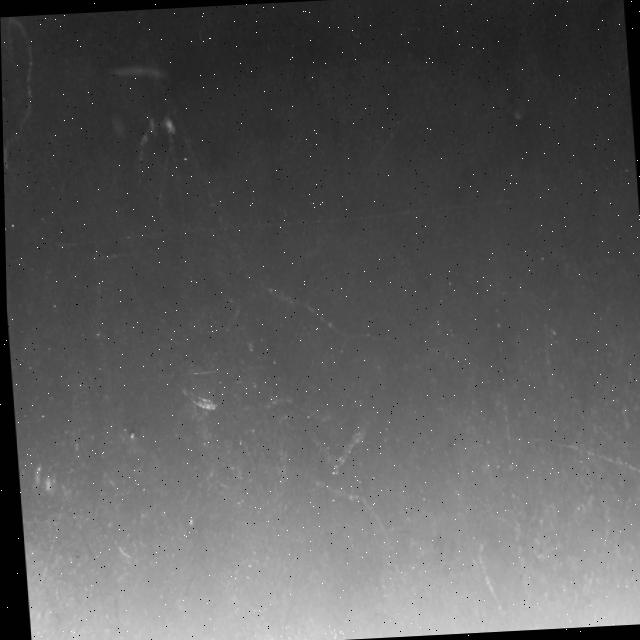beta: (486, 286, 531, 612), (126, 98, 223, 225), (306, 473, 406, 592), (22, 429, 88, 589), (264, 278, 396, 353), (0, 15, 42, 174), (527, 426, 640, 485), (355, 116, 412, 186), (472, 538, 505, 628), (91, 245, 155, 262)
